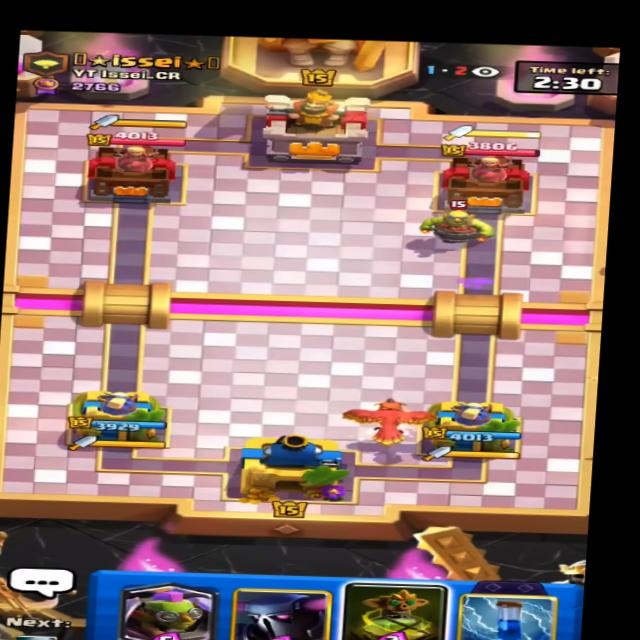goblin-demolisher: (412, 194, 501, 243)
